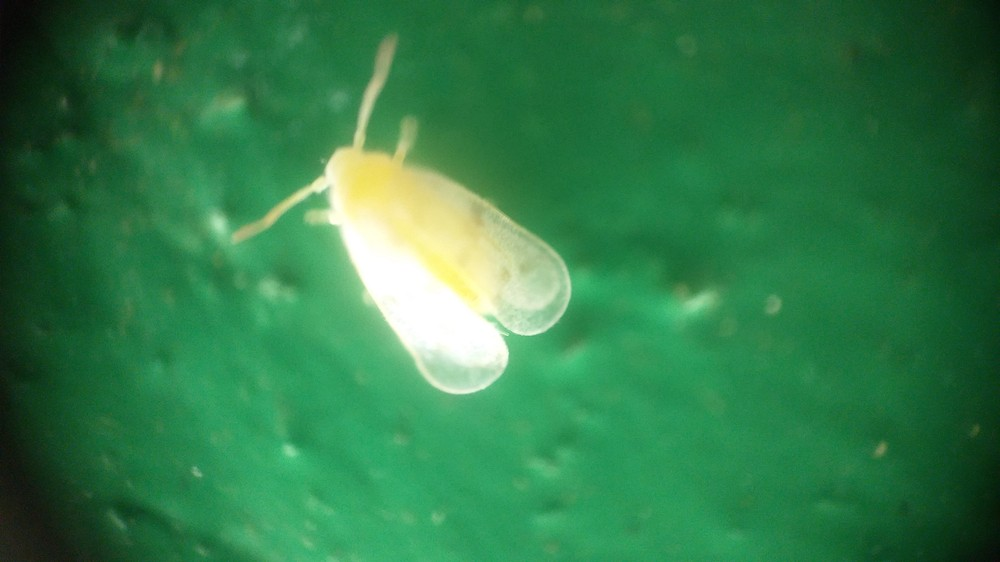Mosca Blanca: (224, 32, 632, 429)
